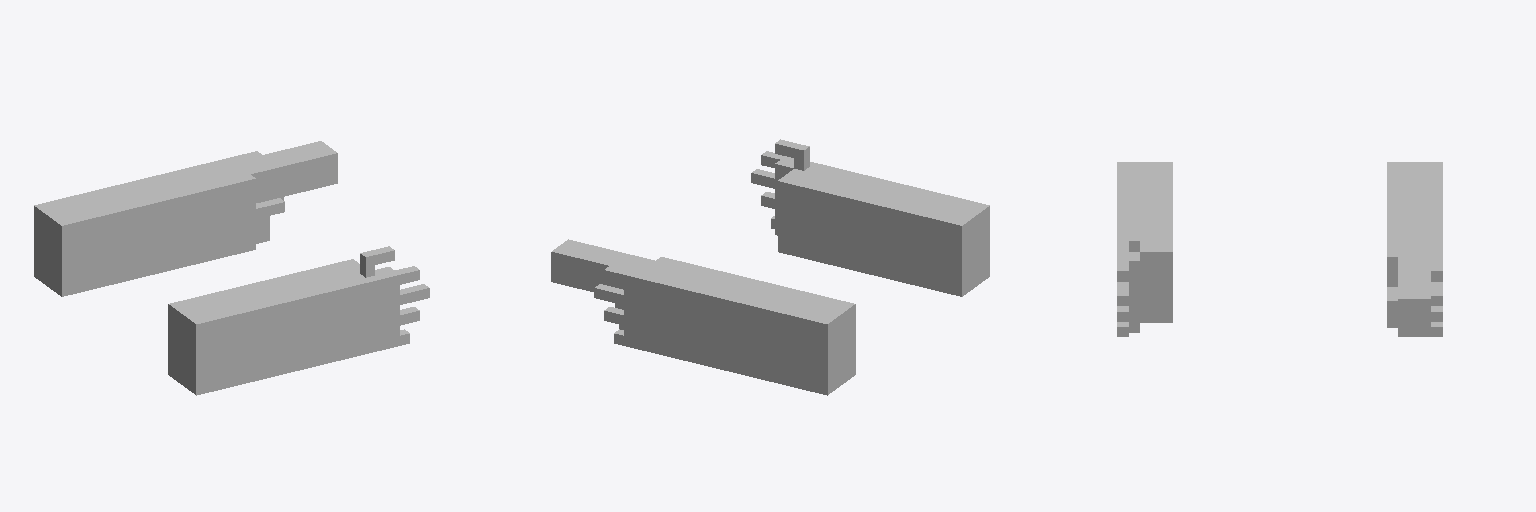
File: Hand With Gun.obj
3 views of the same model, side by side, from view 1: azimuth 30°, elevation 25°; view 2: azimuth 150°, elevation 25°; view 3: azimuth 270°, elevation 25° (orthographic).
Visible parts, largest first — view 1: object 1; view 2: object 1; view 3: object 1.
Boxes of the visible parts, <box> form: object 1: <box>34,141,429,395</box>; object 1: <box>551,139,989,395</box>; object 1: <box>1117,162,1442,336</box>.
Bounding box in the file's own units: 2.9 × 0.9 × 2.9.